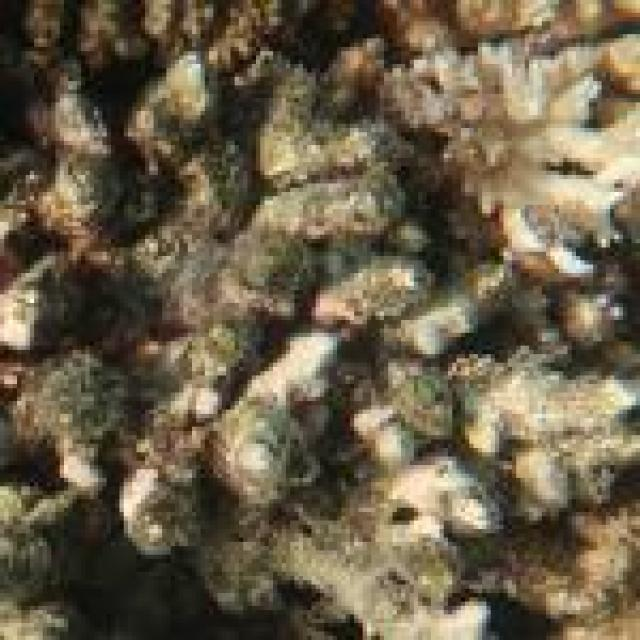Bleached Coral: (475, 51, 640, 266)
Dead Coral: (0, 92, 460, 624)
